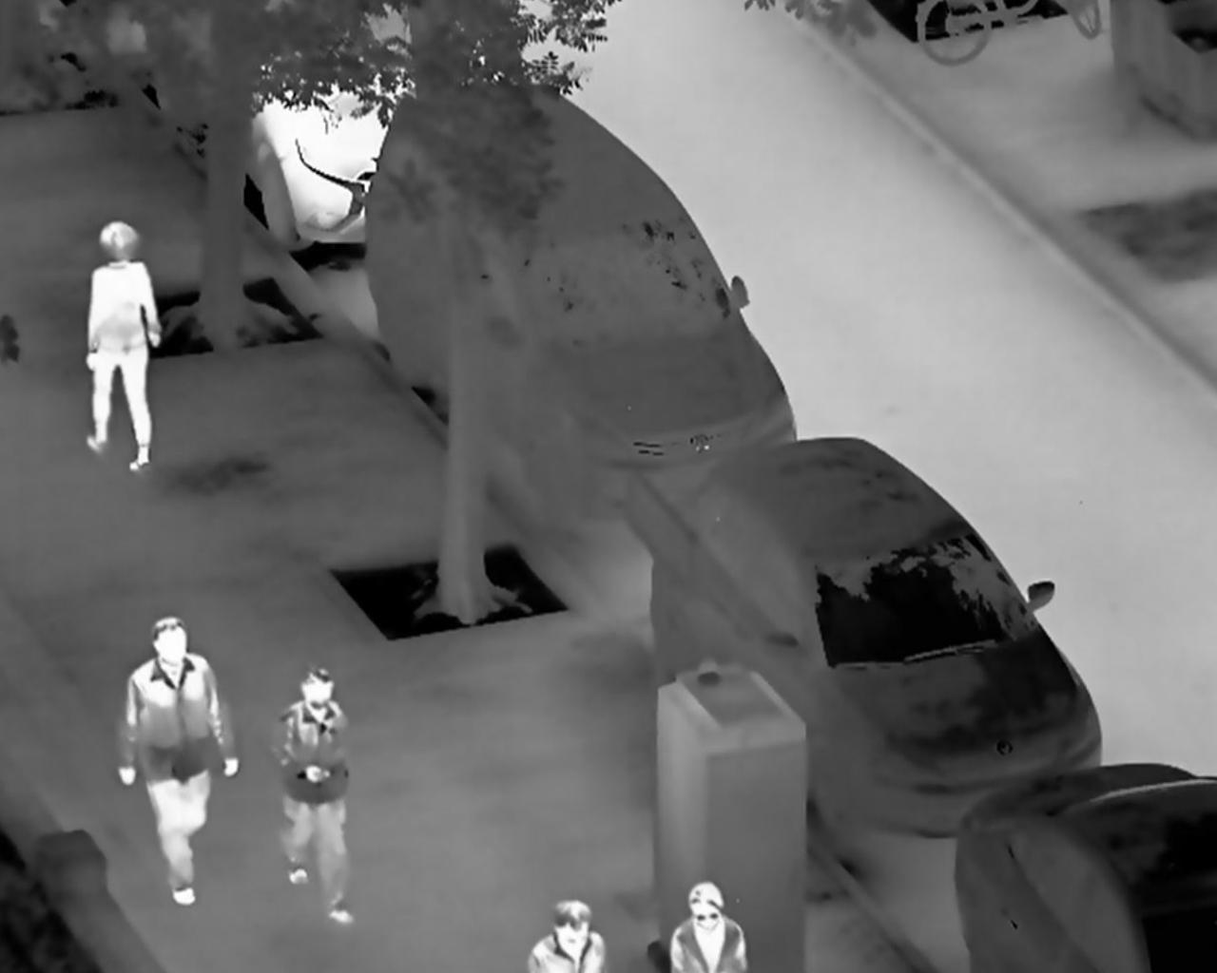person: (116, 614, 239, 907), (262, 664, 357, 926), (84, 219, 164, 473), (661, 870, 756, 972), (522, 888, 616, 973)
